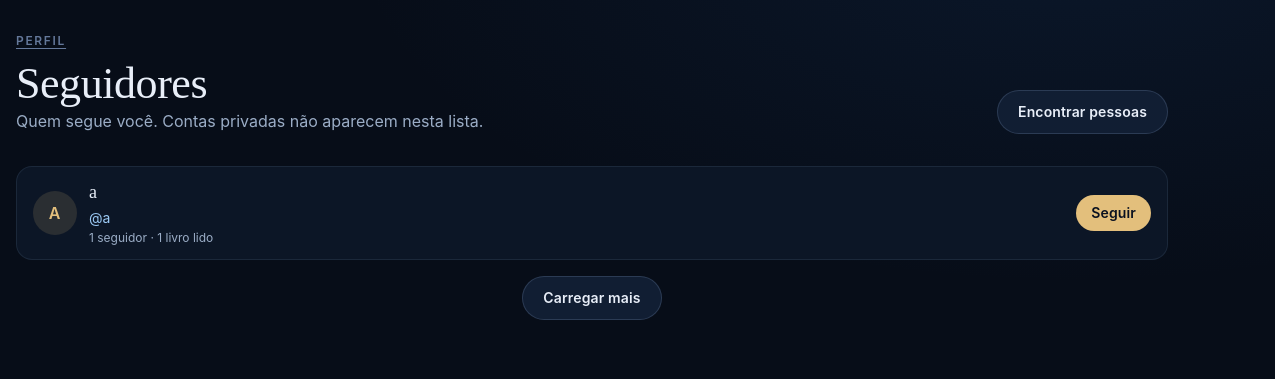
Test: MyFollowsPage (/me/followers e /me/following) › paginação: "Carregar mais" pede a próxima página
The image size is (1275, 379).
Step 1. Click the button "Carregar mais" → (592, 298), box [522,276,662,320]
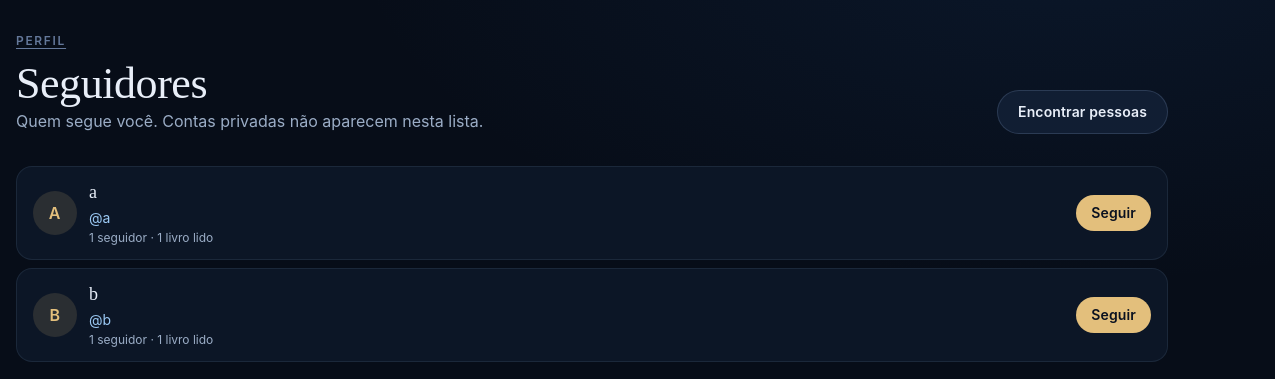
Expected: the number of elements with test id "person-card" is 2, [16,166,1168,260]; [16,268,1168,362]
Expected: the text "Carregar mais" is gone
